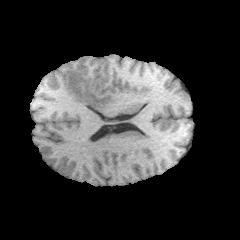glioma: (65, 69, 116, 110)
